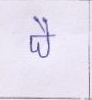ai_matra: (33, 16, 54, 35)
